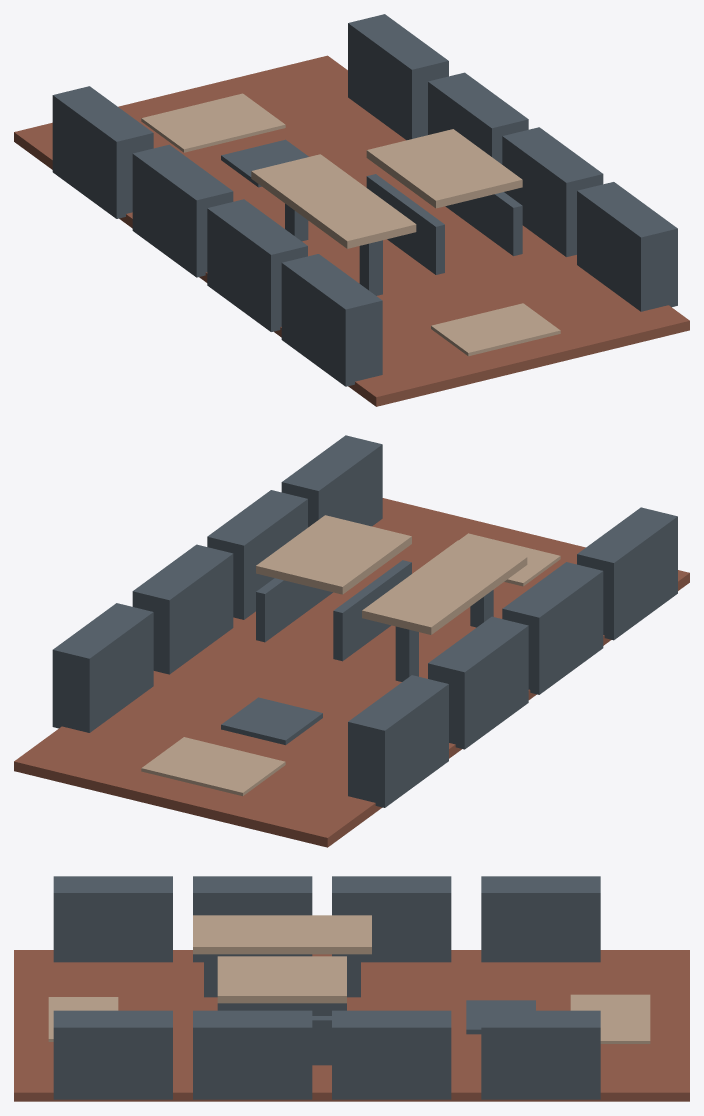
The model's file is ridge-run-collision.candidate.glb.
The picture shows the model from 3 angles, top to bottom: view 1: azimuth 30°, elevation 25°; view 2: azimuth 150°, elevation 25°; view 3: azimuth 270°, elevation 25°; orthographic projection. The views are drawn at different scales.
Visible parts, largest first — view 1: COL_Ground, COL_Ridge_-16_0, COL_Ridge_16_0, COL_Ridge_-16_3, COL_Ridge_16_3, COL_Ridge_-16_2, COL_Ridge_-16_1, COL_High_bridge_deck, COL_Ridge_16_1, COL_Low_passage_roof, COL_Ridge_16_2, COL_Extraction_pad (+6 smaller); view 2: COL_Ground, COL_Ridge_-16_3, COL_Ridge_16_3, COL_Ridge_-16_2, COL_Ridge_16_2, COL_Ridge_-16_1, COL_Ridge_-16_0, COL_High_bridge_deck, COL_Low_passage_roof, COL_Ridge_16_0, COL_Ridge_16_1, COL_Extraction_pad (+5 smaller); view 3: COL_Ground, COL_Ridge_16_3, COL_Ridge_16_0, COL_Ridge_16_1, COL_Ridge_16_2, COL_Ridge_-16_3, COL_Ridge_-16_0, COL_Ridge_-16_2, COL_High_bridge_deck, COL_Low_passage_roof, COL_Ridge_-16_1, COL_Extraction_pad (+6 smaller).
Boxes of the visible parts, <box> form: COL_Ground: <box>14,55,689,406</box>; COL_Ridge_-16_0: <box>281,254,382,386</box>; COL_Ridge_16_0: <box>577,182,677,311</box>; COL_Ridge_-16_3: <box>52,86,153,218</box>; COL_Ridge_16_3: <box>348,14,448,140</box>; COL_Ridge_-16_2: <box>132,144,233,277</box>; COL_Ridge_-16_1: <box>207,199,307,331</box>; COL_High_bridge_deck: <box>251,154,416,248</box>; COL_Ridge_16_1: <box>502,127,603,257</box>; COL_Low_passage_roof: <box>366,129,522,208</box>; COL_Ridge_16_2: <box>428,72,528,164</box>; COL_Extraction_pad: <box>141,93,285,152</box>; COL_Ground: <box>14,498,689,847</box>; COL_Ridge_-16_3: <box>348,675,448,807</box>; COL_Ridge_16_3: <box>52,603,153,732</box>; COL_Ridge_-16_2: <box>428,616,528,749</box>; COL_Ridge_16_2: <box>132,544,233,674</box>; COL_Ridge_-16_1: <box>502,562,603,694</box>; COL_Ridge_-16_0: <box>577,507,677,640</box>; COL_High_bridge_deck: <box>362,540,527,634</box>; COL_Low_passage_roof: <box>256,515,411,594</box>; COL_Ridge_16_0: <box>281,435,382,527</box>; COL_Ridge_16_1: <box>207,490,307,619</box>; COL_Extraction_pad: <box>141,737,285,796</box>; COL_Ground: <box>14,950,689,1101</box>; COL_Ridge_16_3: <box>481,1010,600,1099</box>; COL_Ridge_16_0: <box>53,1010,172,1099</box>; COL_Ridge_16_1: <box>193,1010,312,1099</box>; COL_Ridge_16_2: <box>332,1010,451,1099</box>; COL_Ridge_-16_3: <box>481,876,600,962</box>; COL_Ridge_-16_0: <box>53,876,172,962</box>; COL_Ridge_-16_2: <box>332,876,451,962</box>; COL_High_bridge_deck: <box>193,915,371,954</box>; COL_Low_passage_roof: <box>217,956,346,1003</box>; COL_Ridge_-16_1: <box>193,876,312,962</box>; COL_Extraction_pad: <box>570,994,650,1043</box>.
Bounding box in the file's own units: 36 × 8.8 × 68.
